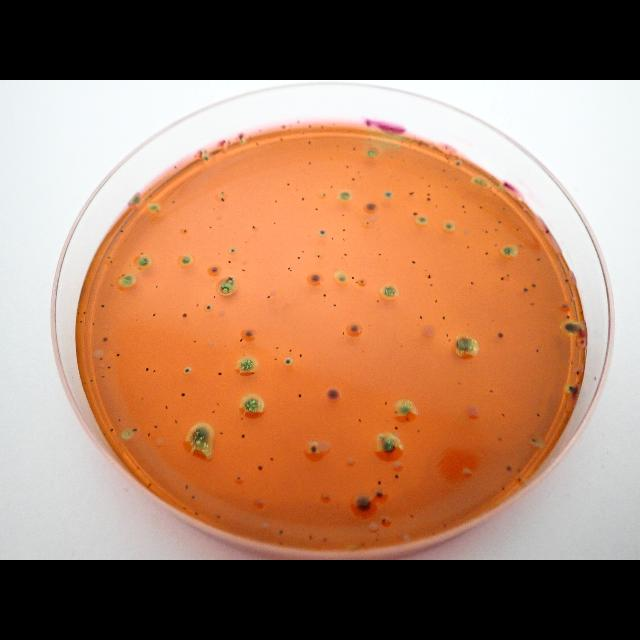colony: (190, 425, 210, 451), (377, 432, 399, 454), (454, 336, 478, 354), (219, 276, 235, 294), (244, 397, 262, 413), (355, 496, 371, 512), (326, 386, 340, 402), (238, 359, 255, 371), (383, 286, 397, 298), (398, 402, 412, 414), (564, 322, 578, 332), (364, 202, 378, 212), (136, 257, 150, 267), (502, 247, 516, 256), (340, 190, 350, 200), (338, 274, 348, 284), (348, 323, 359, 332), (496, 330, 504, 340), (444, 222, 454, 230), (311, 274, 321, 282), (310, 444, 318, 454), (296, 390, 304, 400), (383, 190, 392, 198), (368, 149, 377, 157), (182, 256, 190, 264), (124, 276, 132, 284), (132, 196, 140, 204), (284, 358, 292, 366), (418, 217, 428, 223), (376, 489, 382, 498), (506, 464, 512, 472), (245, 331, 253, 337), (150, 204, 158, 210), (205, 304, 212, 310), (531, 282, 537, 288), (568, 385, 574, 391), (530, 437, 536, 443), (516, 468, 522, 474), (500, 486, 506, 492), (322, 536, 328, 542), (278, 529, 284, 535), (182, 312, 188, 318), (212, 267, 218, 273), (230, 248, 236, 254), (426, 196, 432, 202), (455, 161, 461, 167), (417, 140, 423, 146), (220, 197, 226, 203), (319, 229, 325, 235), (102, 336, 108, 342), (394, 474, 400, 480), (257, 465, 263, 471), (308, 160, 312, 166), (529, 302, 535, 306), (536, 412, 540, 418), (501, 412, 505, 418), (518, 477, 522, 483), (309, 534, 313, 540), (216, 515, 222, 519), (194, 512, 200, 516), (191, 494, 195, 500), (132, 428, 138, 432), (181, 392, 185, 398), (184, 368, 190, 372), (301, 196, 305, 202), (427, 274, 431, 280), (470, 280, 474, 286), (412, 212, 418, 216), (474, 179, 480, 183), (536, 258, 542, 262), (489, 388, 493, 394), (442, 315, 446, 321), (419, 314, 423, 320), (498, 186, 502, 192), (384, 400, 388, 406), (175, 419, 178, 425), (252, 224, 255, 230), (416, 428, 419, 434), (524, 288, 528, 292), (500, 277, 504, 281), (566, 315, 570, 319), (562, 304, 566, 308), (576, 371, 580, 375), (410, 514, 414, 518), (382, 518, 386, 522), (279, 542, 283, 546), (182, 506, 186, 510), (148, 482, 152, 486), (154, 425, 158, 429), (118, 418, 122, 422), (110, 428, 114, 432), (218, 372, 222, 376), (228, 260, 232, 264), (241, 268, 245, 272), (183, 229, 187, 233), (322, 193, 326, 197), (315, 207, 319, 211), (351, 178, 355, 182), (342, 228, 346, 232), (343, 253, 347, 257), (412, 260, 416, 264), (484, 230, 488, 234), (479, 206, 483, 210), (442, 168, 446, 172), (308, 140, 312, 144), (308, 125, 312, 129), (282, 125, 286, 129), (280, 137, 284, 141), (204, 157, 208, 161), (101, 304, 105, 308), (220, 431, 224, 435), (241, 434, 245, 438), (289, 349, 293, 353), (378, 480, 382, 484), (270, 457, 274, 461), (360, 280, 364, 284), (368, 138, 372, 142), (434, 299, 438, 303), (358, 418, 362, 422), (394, 426, 398, 430), (394, 410, 398, 414), (346, 164, 348, 170), (186, 484, 188, 490), (148, 432, 150, 438), (286, 182, 290, 185), (378, 252, 382, 255), (518, 244, 524, 246), (498, 220, 502, 223), (466, 245, 469, 249), (321, 125, 324, 129), (171, 200, 175, 203), (92, 322, 95, 326), (245, 394, 248, 398), (217, 402, 220, 406), (275, 346, 279, 349), (566, 278, 568, 284), (396, 146, 399, 150), (401, 139, 404, 143), (222, 139, 225, 143), (195, 154, 198, 158), (406, 417, 409, 421), (366, 222, 369, 225), (356, 170, 359, 173), (536, 349, 538, 353), (362, 542, 364, 546), (166, 406, 168, 410), (240, 338, 242, 342), (267, 296, 271, 298), (208, 226, 212, 228), (330, 186, 334, 188), (343, 238, 345, 242), (429, 284, 433, 286), (494, 244, 498, 246), (516, 228, 518, 232), (495, 228, 497, 232), (427, 194, 431, 196), (444, 186, 448, 188), (352, 148, 356, 150), (256, 142, 258, 146), (174, 166, 178, 168), (220, 192, 224, 194), (156, 210, 160, 212), (149, 195, 153, 197), (120, 230, 124, 232), (140, 253, 144, 255), (110, 284, 114, 286), (156, 285, 158, 289), (298, 256, 300, 260), (288, 266, 290, 270), (110, 260, 112, 264), (107, 256, 111, 258), (100, 357, 102, 361), (116, 354, 120, 356), (146, 368, 148, 372), (152, 370, 156, 372), (101, 376, 105, 378), (90, 380, 94, 382), (274, 358, 278, 360), (300, 354, 302, 358), (546, 230, 548, 234), (193, 341, 197, 343), (153, 314, 157, 316), (333, 304, 337, 306), (342, 331, 344, 335), (352, 276, 354, 280), (410, 139, 412, 143), (446, 333, 448, 337), (448, 338, 450, 342), (490, 186, 492, 190), (580, 310, 582, 314), (506, 274, 509, 276), (410, 192, 412, 195), (464, 210, 466, 213), (435, 205, 437, 208), (122, 274, 125, 276), (318, 255, 320, 258), (80, 321, 82, 324), (240, 418, 243, 420), (212, 411, 214, 414), (238, 476, 240, 479), (466, 324, 469, 326), (252, 372, 254, 374), (243, 354, 245, 356), (214, 296, 216, 298), (196, 304, 198, 306), (274, 222, 276, 224), (275, 200, 277, 202), (342, 214, 344, 216), (332, 238, 334, 240), (486, 252, 488, 254), (412, 192, 414, 194), (428, 185, 430, 187), (462, 206, 464, 208), (302, 251, 304, 253), (290, 270, 292, 272), (84, 312, 86, 314), (77, 312, 79, 314), (108, 366, 110, 368), (84, 382, 86, 384), (324, 294, 326, 296), (356, 281, 358, 283)
